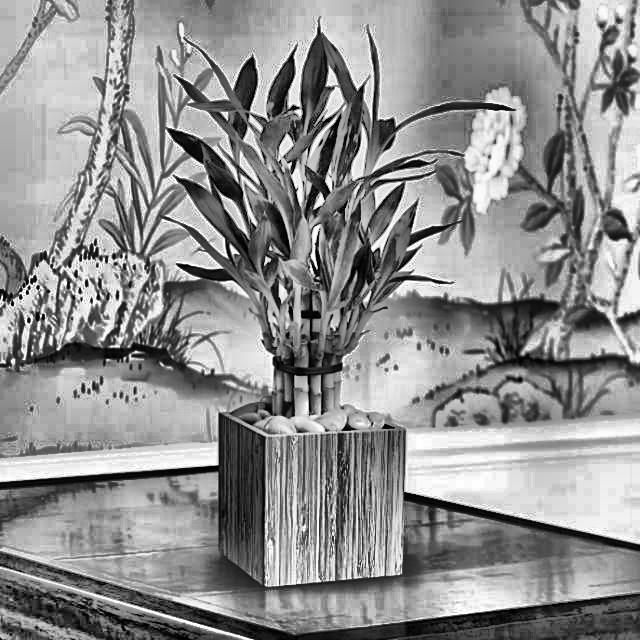plants: (161, 25, 464, 589)
